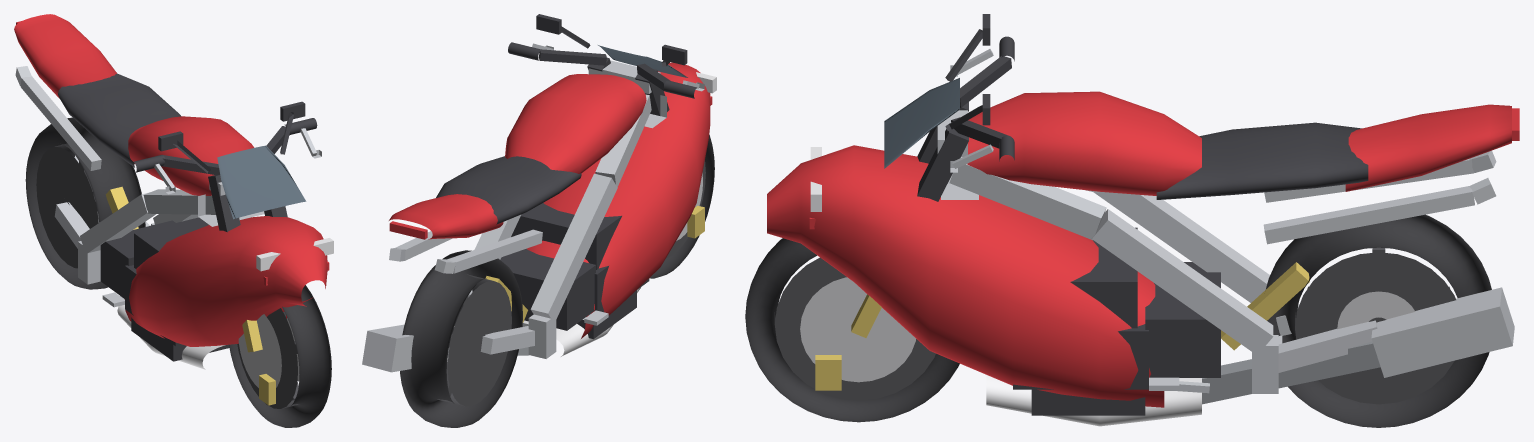
Rendered from cbr600.glb.
3 renders of one model, left to right at view 1: azimuth 30°, elevation 25°; view 2: azimuth 150°, elevation 25°; view 3: azimuth 270°, elevation 25°, orthographic. The views are drawn at different scales.
Visible parts, largest first — view 1: fairing, frame, seat, wheel_FL, wheel_RL, tank, tail, engine, wheel_RL_rim, screen, wheel_FL_rim, wheel_FL_disc (+10 smaller); view 2: fairing, frame, wheel_RL, tank, engine, wheel_RL_rim, seat, tail, silencer, wheel_FL, steerhead_handlebar, swingarm (+9 smaller); view 3: fairing, frame, tank, wheel_RL, engine, seat, wheel_RL_rim, wheel_FL, tail, silencer, wheel_FL_disc, wheel_FL_rim (+11 smaller).
Boxes of the visible parts, <box> form: fairing: <box>124,216,327,346</box>; frame: <box>15,66,264,284</box>; seat: <box>58,73,181,167</box>; wheel_FL: <box>229,285,331,427</box>; wheel_RL: <box>25,117,145,289</box>; tank: <box>128,116,254,195</box>; tail: <box>14,14,116,98</box>; engine: <box>100,217,229,361</box>; wheel_RL_rim: <box>36,143,98,268</box>; screen: <box>217,145,306,219</box>; wheel_FL_rim: <box>237,308,299,408</box>; wheel_FL_disc: <box>238,314,299,387</box>; fairing: <box>526,62,710,338</box>; frame: <box>389,94,666,358</box>; wheel_RL: <box>400,250,522,427</box>; tank: <box>505,74,646,173</box>; engine: <box>500,202,649,339</box>; wheel_RL_rim: <box>437,274,511,406</box>; seat: <box>436,156,581,224</box>; tail: <box>389,194,503,239</box>; silencer: <box>362,324,413,372</box>; wheel_FL: <box>649,135,714,278</box>; steerhead_handlebar: <box>539,49,670,91</box>; swingarm: <box>480,323,534,354</box>; fairing: <box>767,145,1164,407</box>; frame: <box>941,150,1496,393</box>; tank: <box>967,91,1201,195</box>; wheel_RL: <box>1266,214,1491,427</box>; engine: <box>1013,227,1220,415</box>; seat: <box>1156,122,1368,199</box>; wheel_RL_rim: <box>1295,247,1455,404</box>; wheel_FL: <box>745,238,959,422</box>; tail: <box>1345,104,1511,191</box>; silencer: <box>1371,287,1514,377</box>; wheel_FL_disc: <box>800,277,915,382</box>; wheel_FL_rim: <box>774,257,935,400</box>.
Size of the model in its own units: 0.74 by 1.06 by 2.05.
